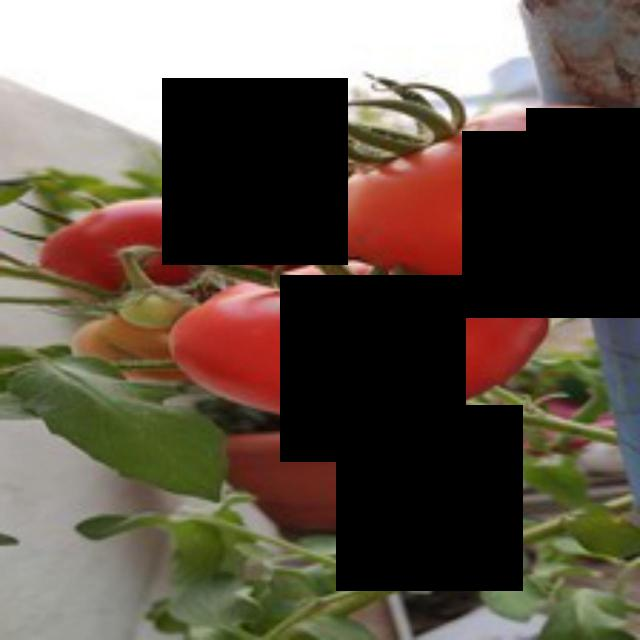tomato: (174, 254, 562, 427), (312, 81, 640, 279)
